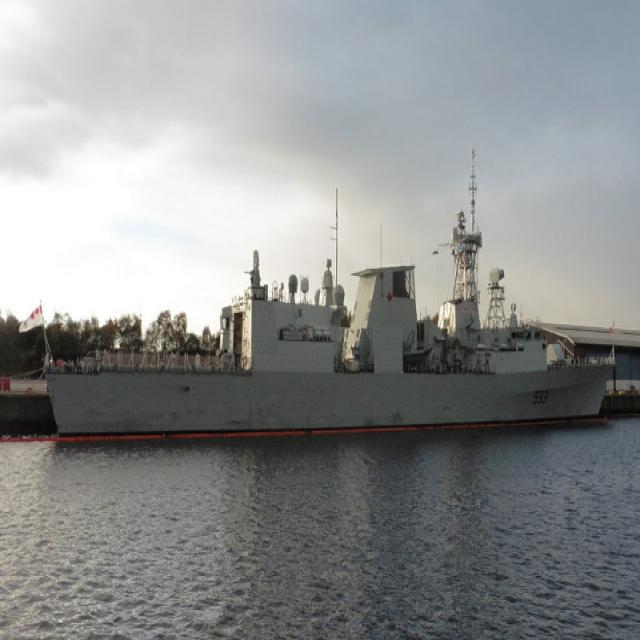Fragata: (41, 216, 628, 452)
